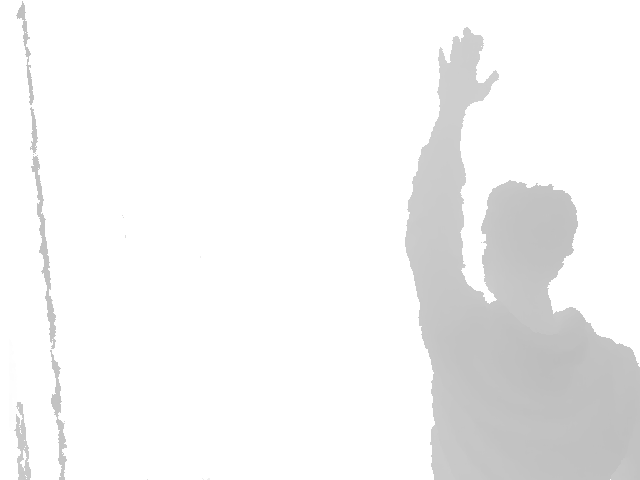hand: (437, 27, 500, 115)
head: (480, 181, 578, 302)
person: (404, 27, 640, 480)
